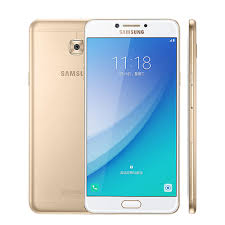samsung: (82, 16, 182, 216), (25, 15, 86, 216)
